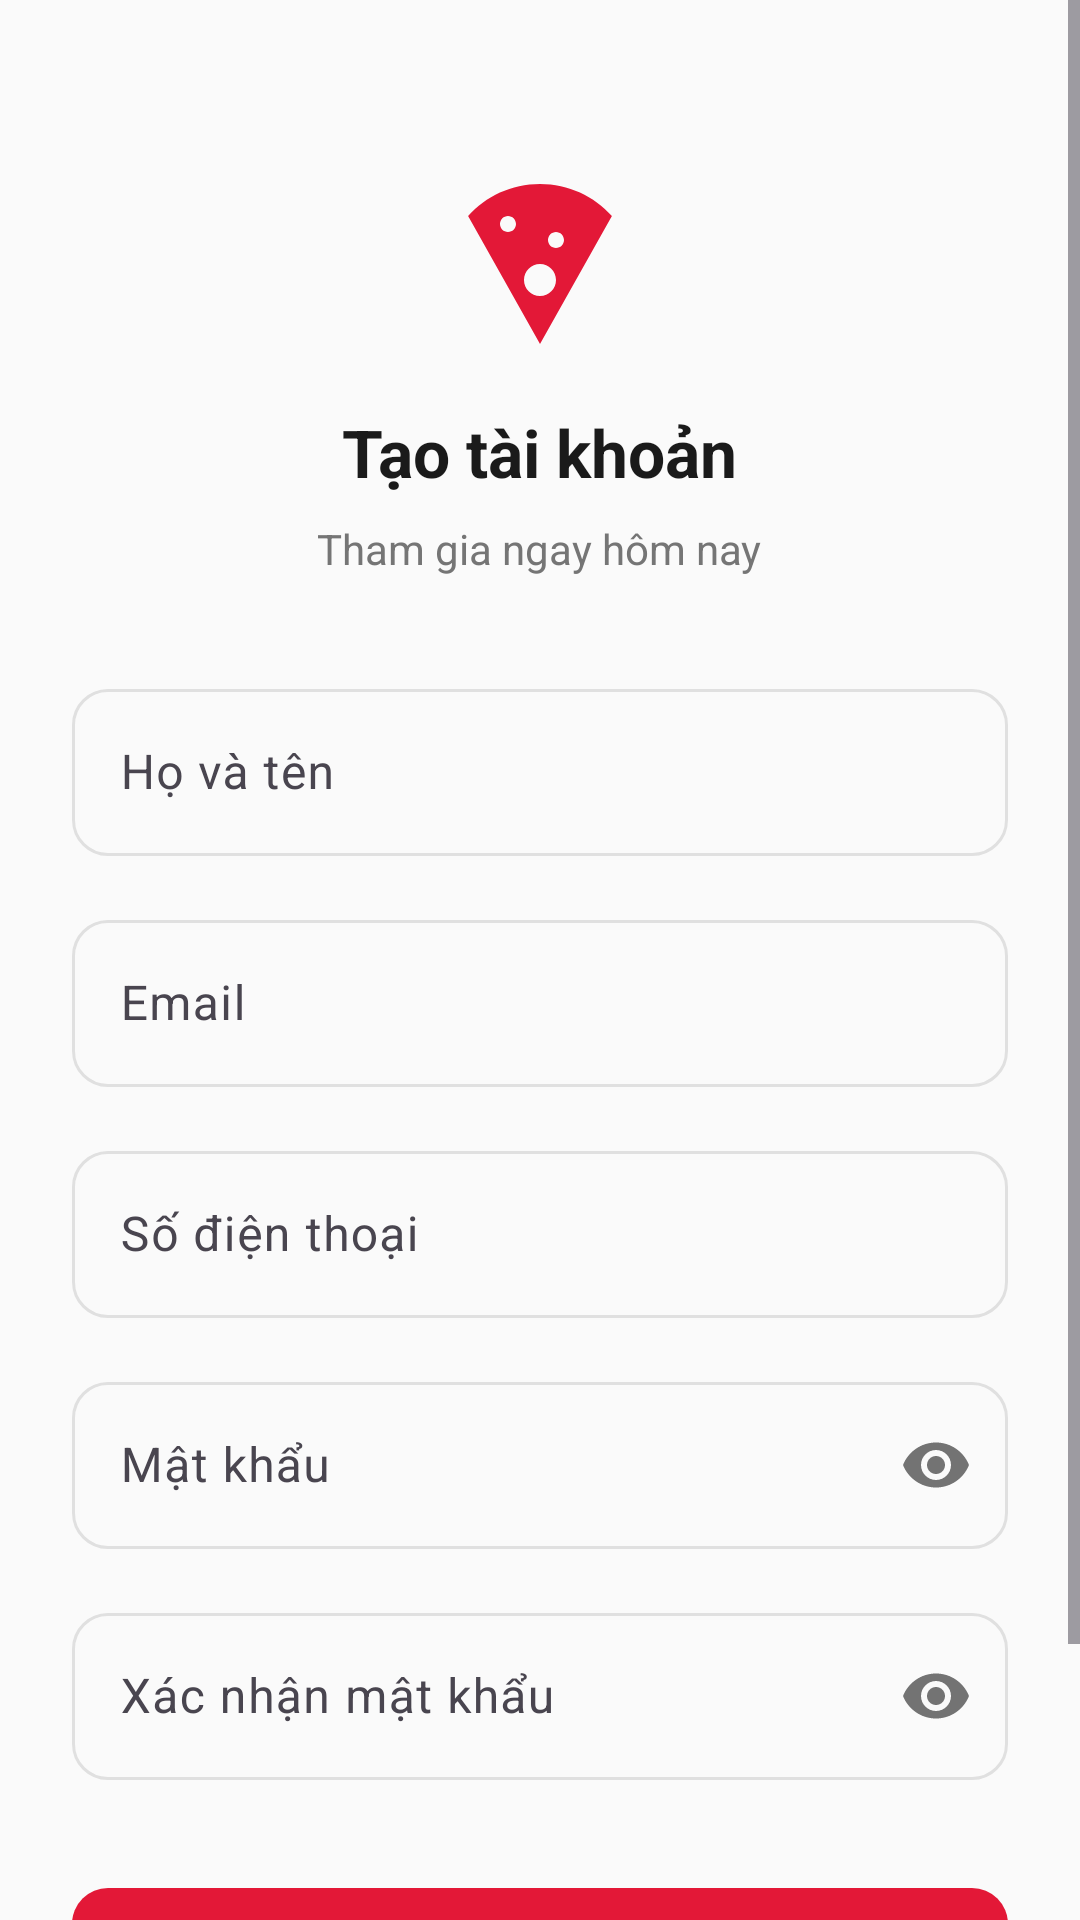

Where icons sit on this 1080 x 1920 app screen, as (x1, y1, x2, y2):
pizza: (468, 184, 612, 344)
